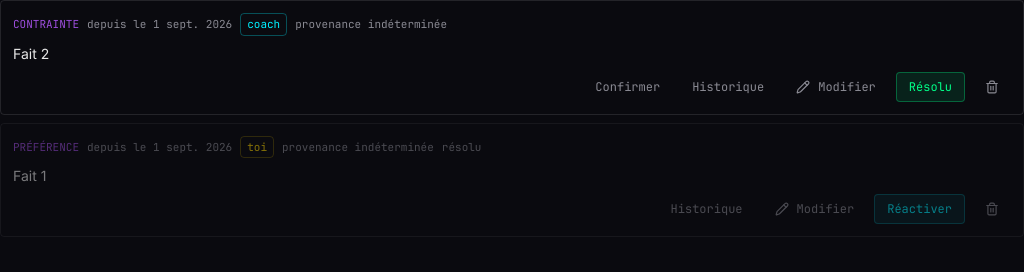
Test case: edits a fact in place and only saves a changed text
The width and height of the screenshot is (1024, 272).
Click the 1st button "Modifier" at (836, 86), box [784,72,888,102]
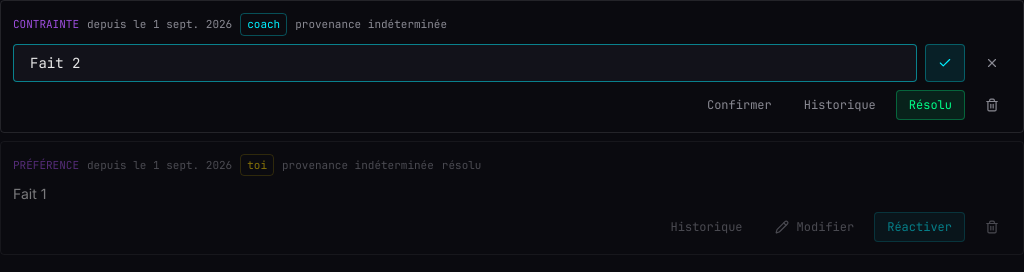
Click the button named "Enregistrer le fait" at (945, 62), box [925,44,965,82]
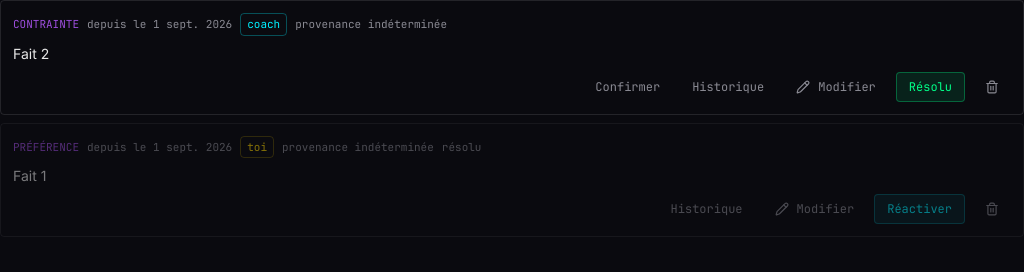
Click the 1st button "Modifier" at (836, 86), box [784,72,888,102]
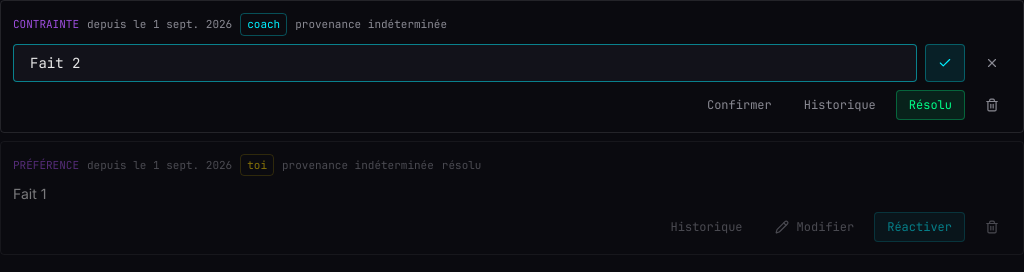
Replace the text in the field named "Texte du fait" with "  Pas de côtes  " at (465, 62), box [13,44,917,82]
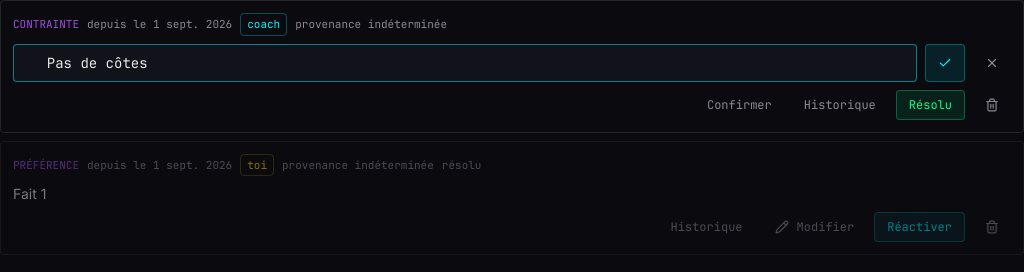
Click the button named "Enregistrer le fait" at (945, 62), box [925,44,965,82]
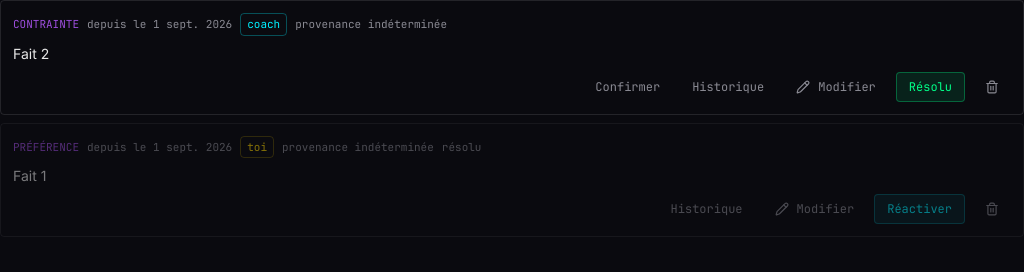
Expected: the text "Fait 2" is shown, [13,44,49,62]
